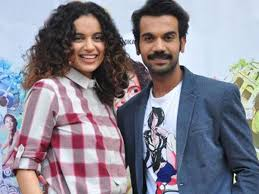Bad: (17, 1, 259, 194)
